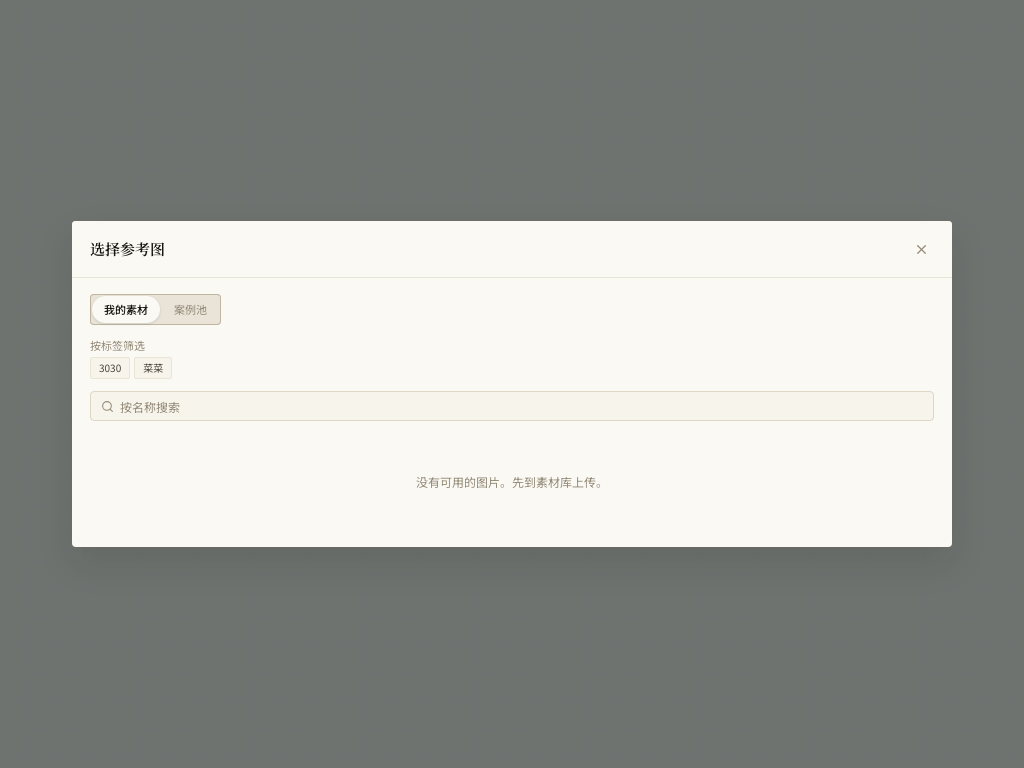
AssetPicker · 案例池 › 案例池空时的说明指向「转成案例」，不是「去素材库上传」
Click the button "案例池": click(190, 309) top-left (162, 296), bottom-right (219, 322)
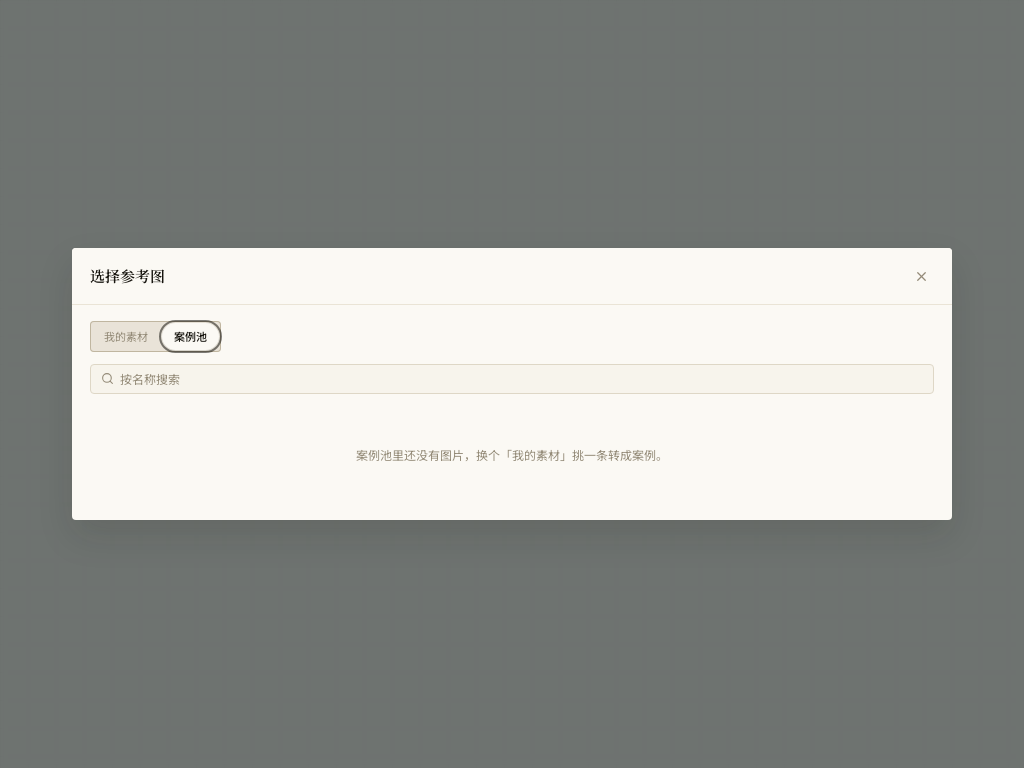
Result: the text "挑一条转成案例" is shown at top-left (356, 446), bottom-right (668, 463)
